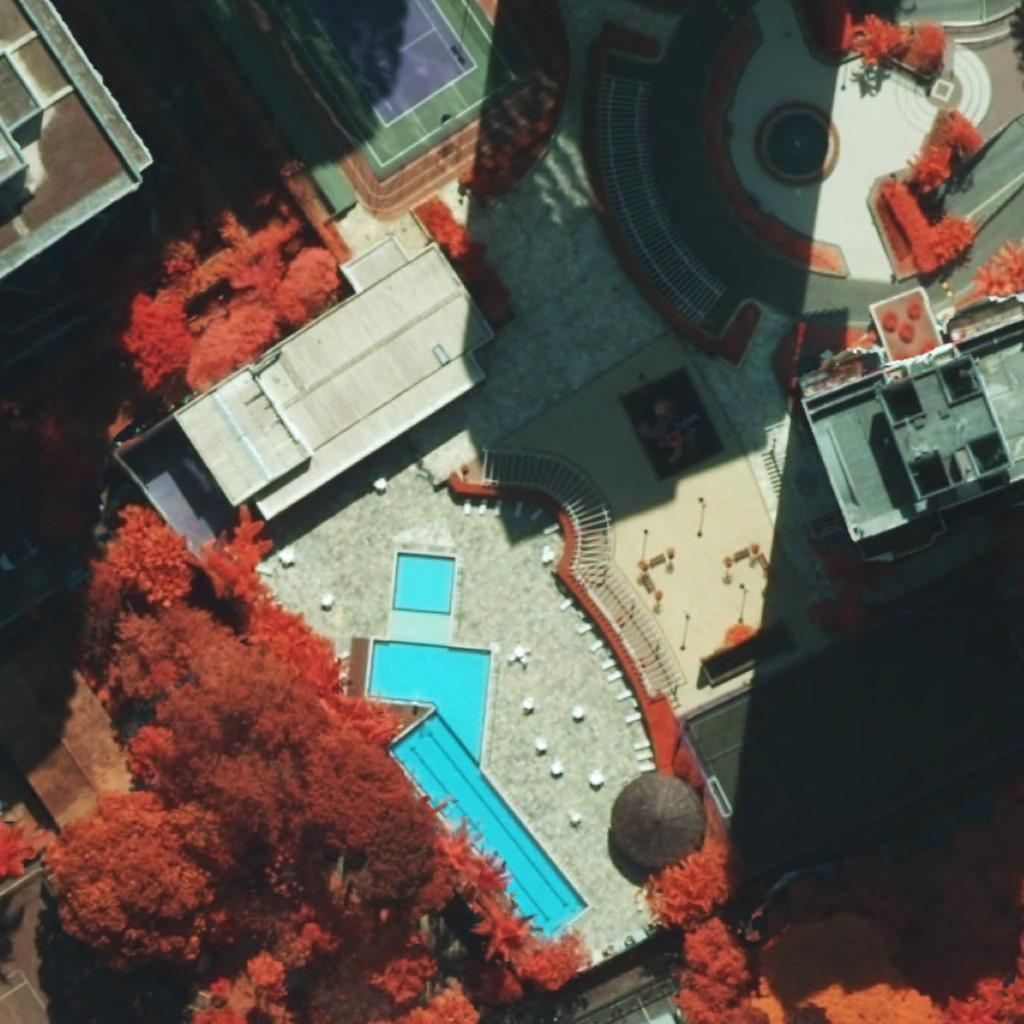pool: (368, 640, 589, 937), (393, 552, 455, 616)
